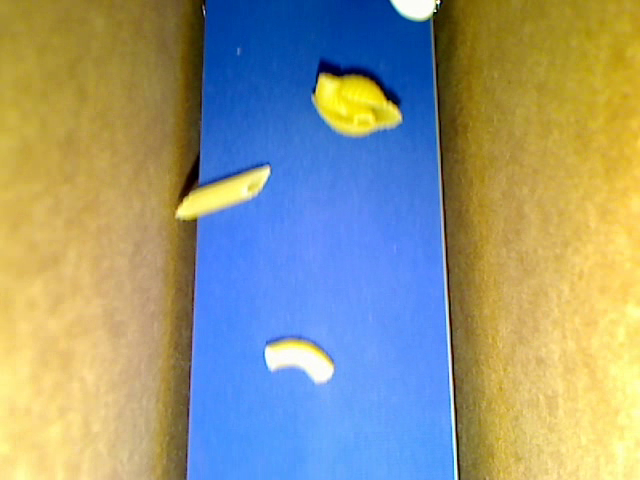elbow: (312, 73, 374, 130), (264, 337, 335, 384)
penne: (173, 163, 272, 222)
shell: (310, 73, 403, 138)
